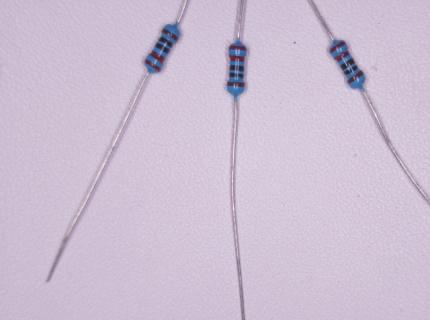Black band: (341, 58, 355, 70), (159, 37, 173, 48), (155, 44, 169, 55), (344, 65, 358, 75), (230, 65, 244, 72), (230, 73, 244, 78)
Brown band: (348, 70, 364, 84), (162, 29, 179, 41), (227, 82, 245, 87)
Red band: (149, 50, 166, 65), (145, 59, 162, 73), (329, 40, 346, 54), (335, 50, 351, 62), (229, 45, 248, 51), (229, 56, 245, 63)
